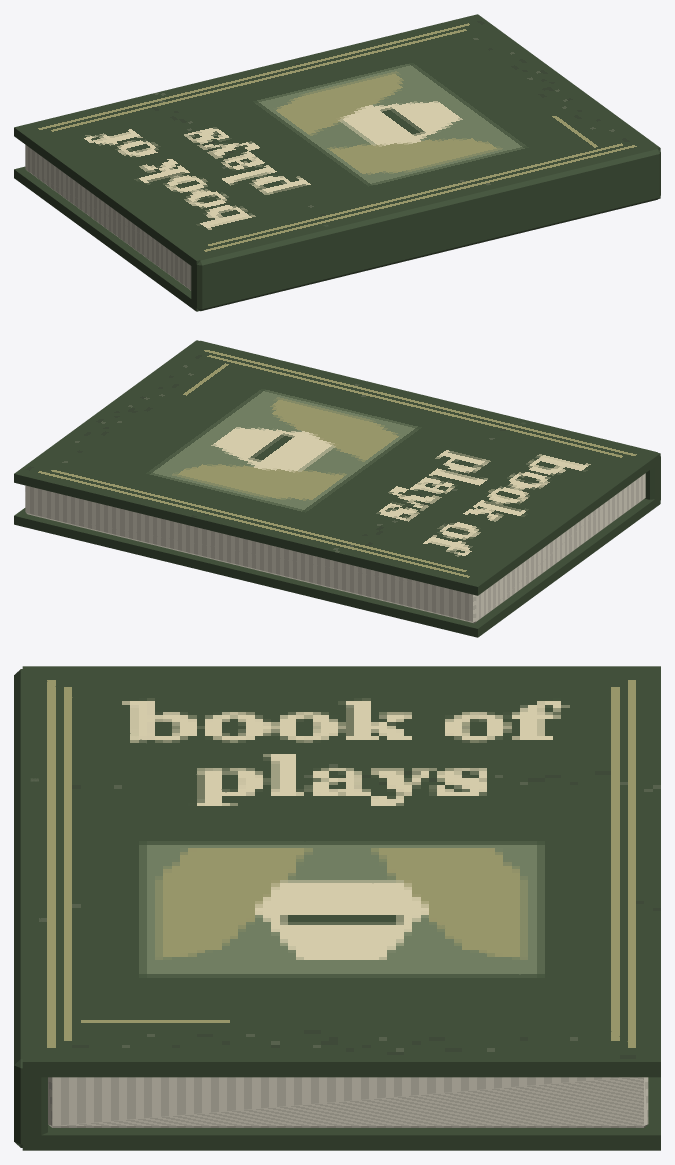
The model's file is plays_book.glb.
The picture shows the model from 3 angles, top to bottom: view 1: azimuth 30°, elevation 25°; view 2: azimuth 150°, elevation 25°; view 3: azimuth 270°, elevation 25°; orthographic projection. The views are drawn at different scales.
Parts seen in each view (by area): view 1: block_front, block_spine, block_pages, block_back; view 2: block_front, block_pages, block_back, block_spine; view 3: block_front, block_pages, block_back, block_spine.
Part boxes in pixels (<box>): block_front: <box>14,14,660,269</box>; block_spine: <box>191,149,660,311</box>; block_pages: <box>25,145,191,290</box>; block_back: <box>14,166,660,311</box>; block_front: <box>14,340,660,595</box>; block_pages: <box>25,473,645,623</box>; block_back: <box>14,495,660,637</box>; block_spine: <box>196,340,660,499</box>; block_front: <box>22,666,660,1077</box>; block_pages: <box>48,1077,648,1127</box>; block_back: <box>22,1077,660,1150</box>; block_spine: <box>14,669,47,1147</box>.
Size of the model in its own units: 0.22 by 0.023 by 0.152.
1 material, 1 textured.
